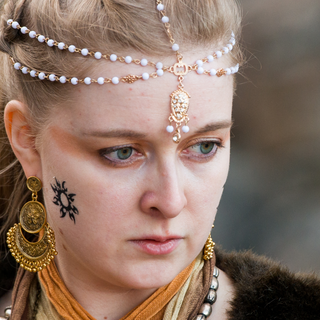eye: (85, 138, 155, 175), (172, 130, 229, 164)
